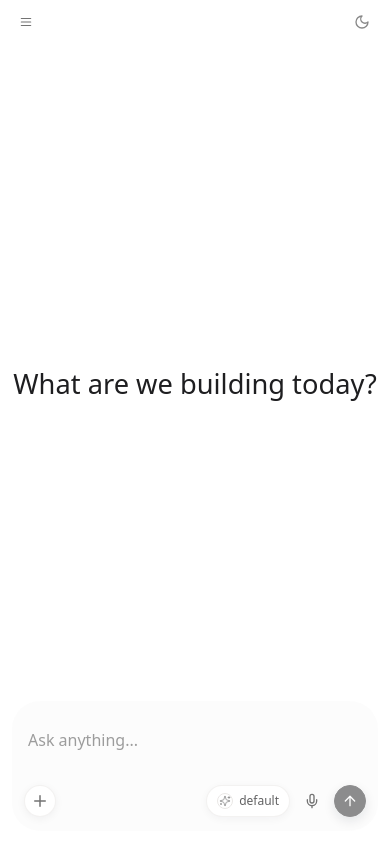
Test: App layout › keeps the mobile session action menu inside the sidebar sheet
The width and height of the screenshot is (390, 844).
Click the button named "Toggle sidebar": (26, 22) [12,8,40,36]
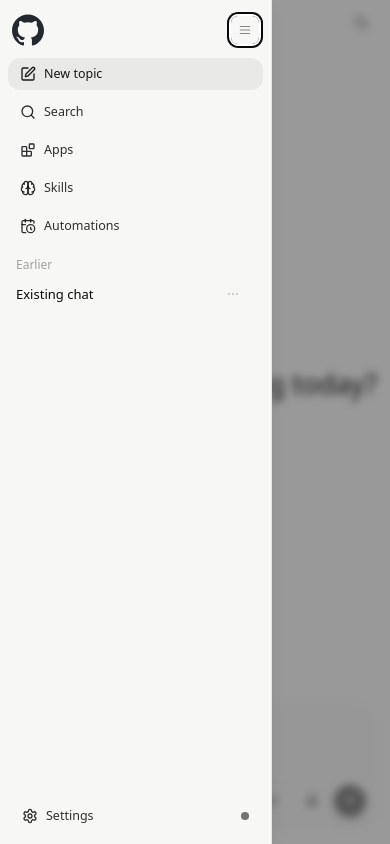
Check: the button "Existing chat" is shown, box [16,278,189,310]
Press the mouse on the button named "Topic actions for Existing chat": (233, 294) [221,282,245,306]
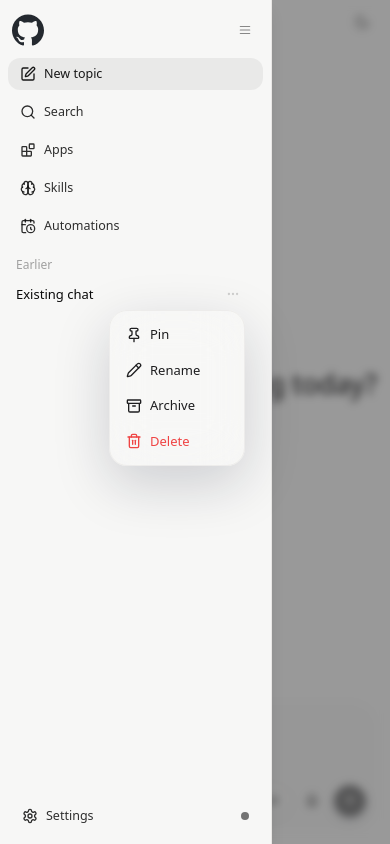
Check: the menu item "Delete" is shown
Click the menu item "Delete": (158, 440) [126,432,190,450]
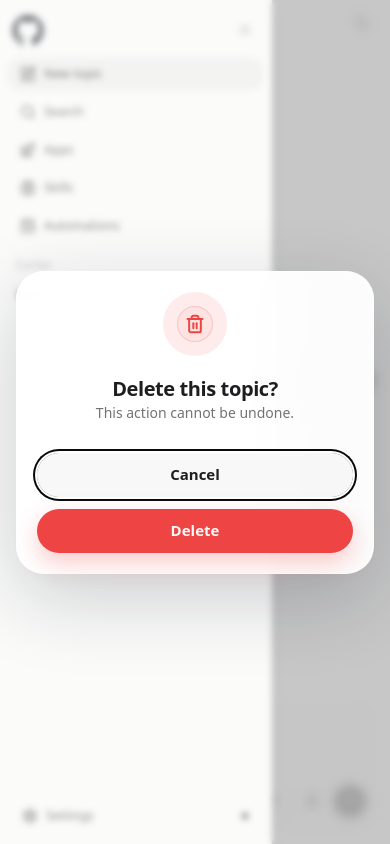
Check: the heading "Delete this topic?" is shown, box [112,376,278,400]
